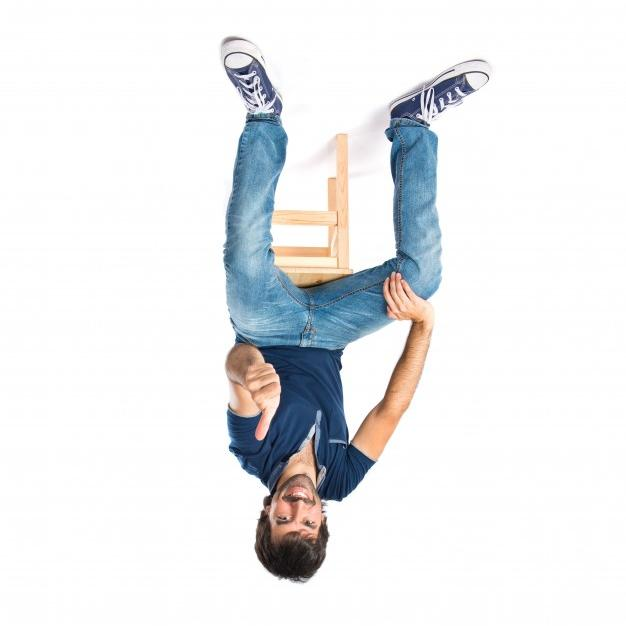thumbsdown: (245, 362, 281, 441)
